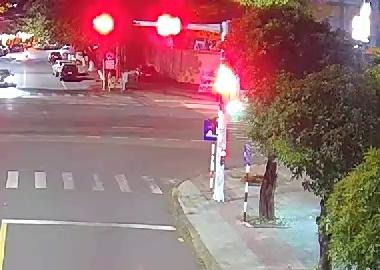red_light: (151, 13, 184, 40), (90, 10, 118, 38)
stop_line: (3, 219, 175, 230)
